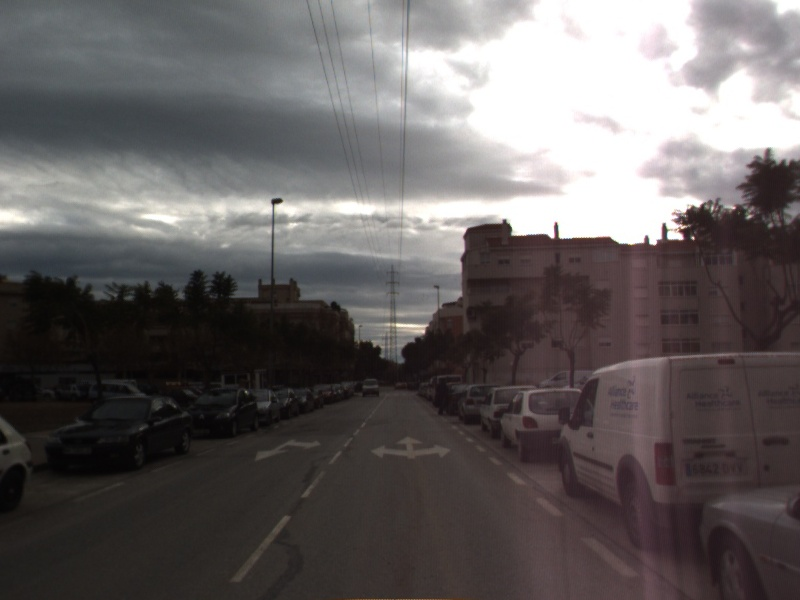STRAIGHT_LEFT_RIGHT: (369, 434, 453, 461)
